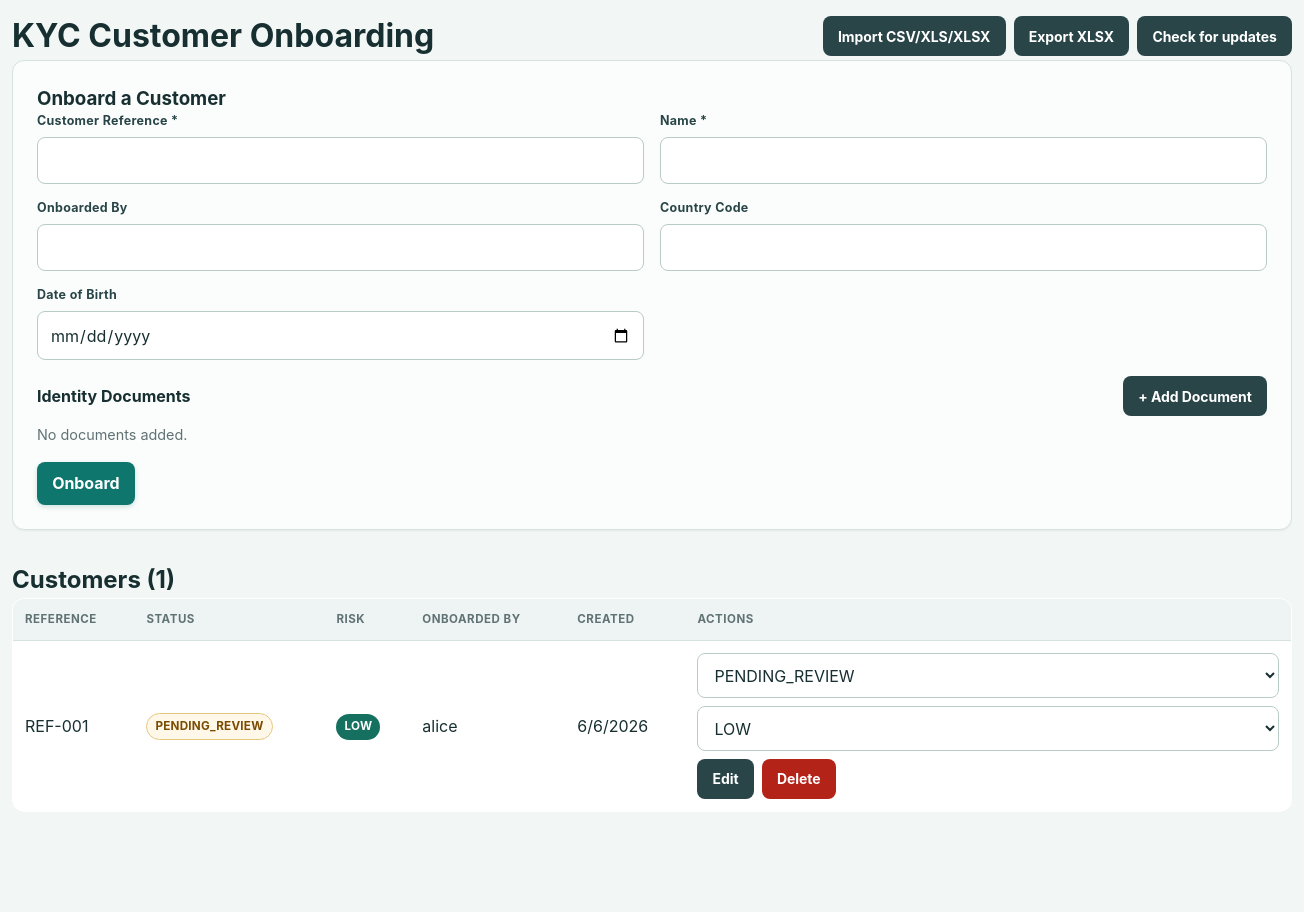
Test: CustomersPage › action error surfaces › surfaces a risk-change failure
expect the text "REF-001" is shown: met, box [12,641,134,812]
Step 1. Select "MEDIUM" in the dropdown named "risk for REF-001" → (988, 728), box [697,706,1279,751]
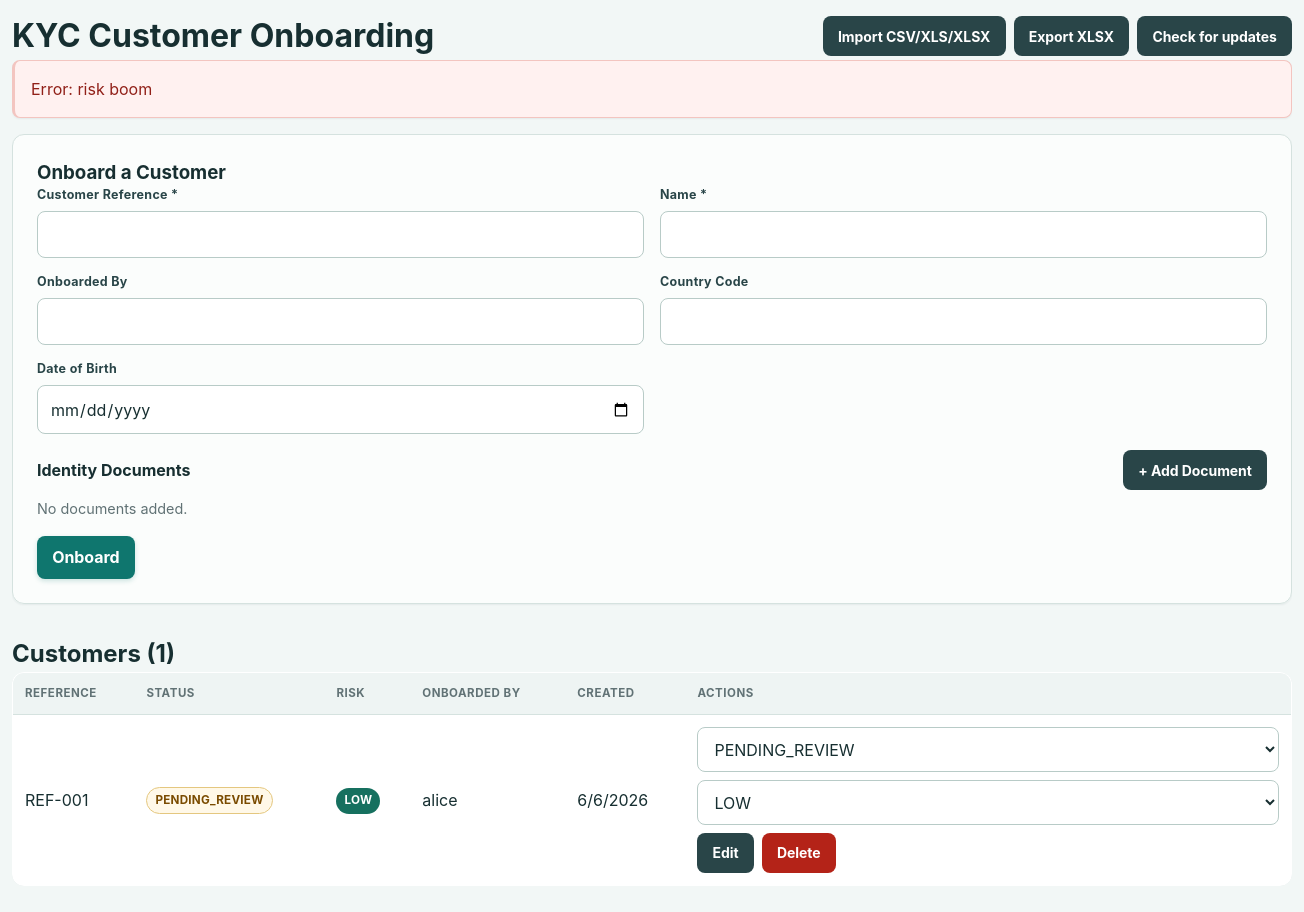
expect the text "Error: risk boom" is shown: met, box [12,60,1292,118]
